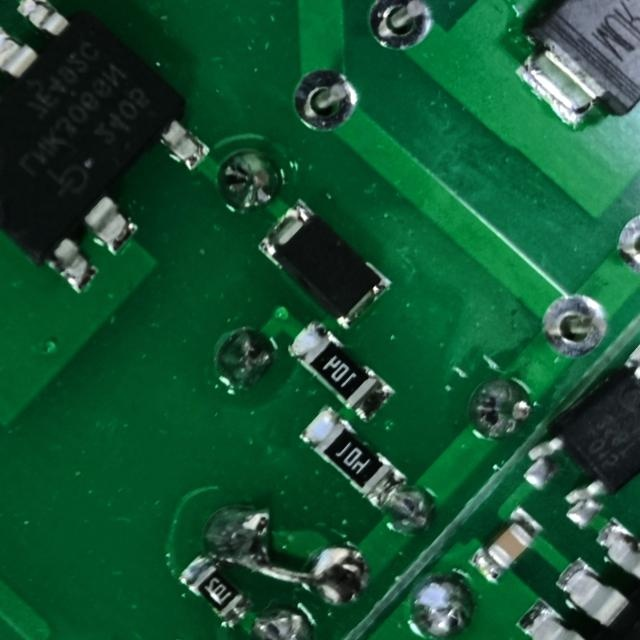chip-capacitor: (462, 501, 547, 589)
chip-resistor: (281, 312, 400, 426), (296, 400, 412, 512), (173, 550, 257, 630)
diode: (497, 0, 640, 155), (251, 194, 397, 335)
ic: (0, 0, 233, 299), (508, 327, 640, 537)
